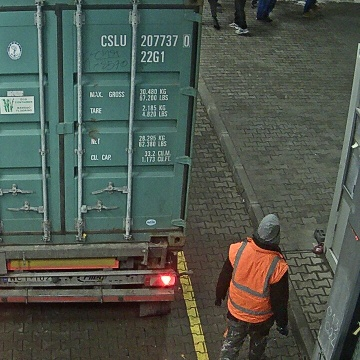serial_id: (101, 35, 190, 46)
